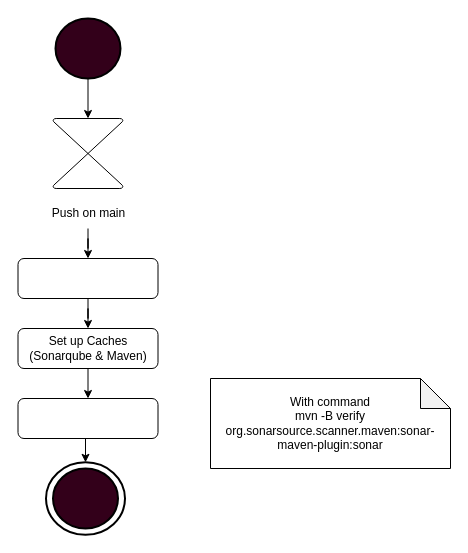
Some shapes in this 468 by 553 pixel diagram are drawn without their labels. Each missing label, with the centre of its shape:
"Build Project and analyze with SonarQube" belongs at (87,418).
"Set up JDK (OpenJDK 17)" belongs at (87,278).
